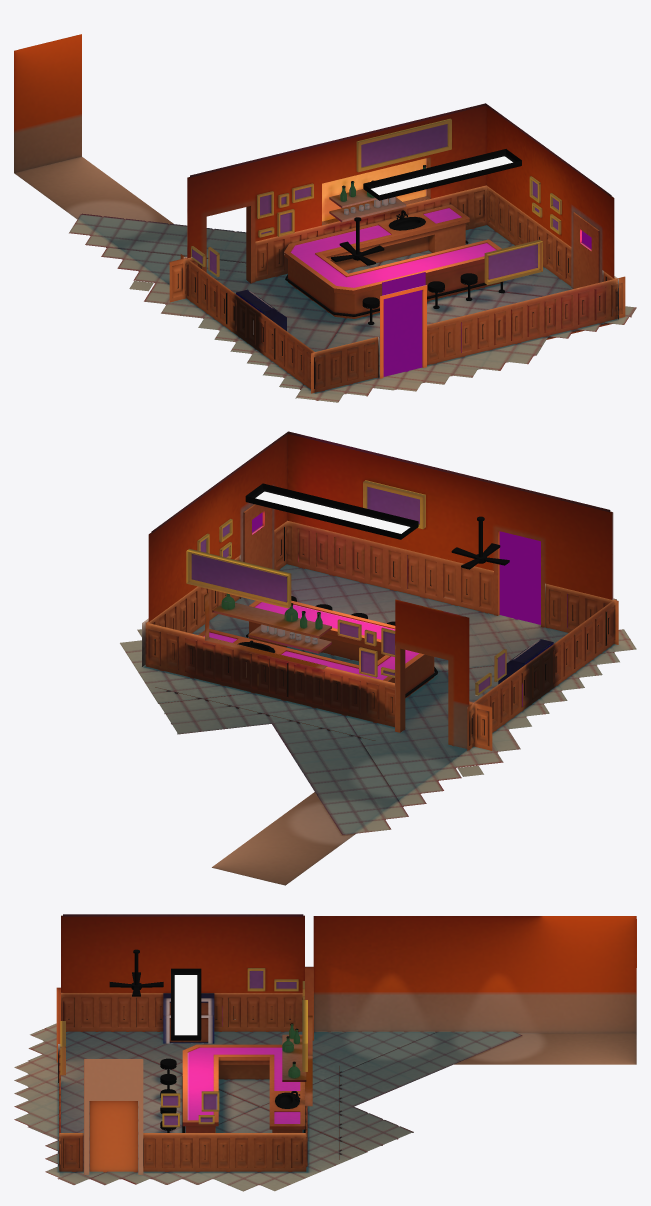
File: RoomBase_02.fbx
3 views of the same model, one above another, from view 1: azimuth 30°, elevation 25°; view 2: azimuth 150°, elevation 25°; view 3: azimuth 270°, elevation 25° (orthographic). The views are drawn at different scales.
Visible parts, largest first — view 1: Room, Metal, AirCondition; view 2: Room, Metal, AirCondition; view 3: Room, Metal, AirCondition, Chairs.
Part boxes in pixels (x1,y1,x2,y2): Room: (14, 34, 636, 402); Metal: (285, 149, 521, 324); AirCondition: (331, 217, 384, 265); Room: (120, 431, 636, 885); Metal: (237, 483, 437, 697); AirCondition: (451, 516, 509, 569); Room: (14, 914, 636, 1191); Metal: (160, 968, 305, 1132); AirCondition: (109, 949, 163, 996); Chairs: (160, 1058, 176, 1129).
Bounding box in the file's own units: 1352 × 442 × 2022.
